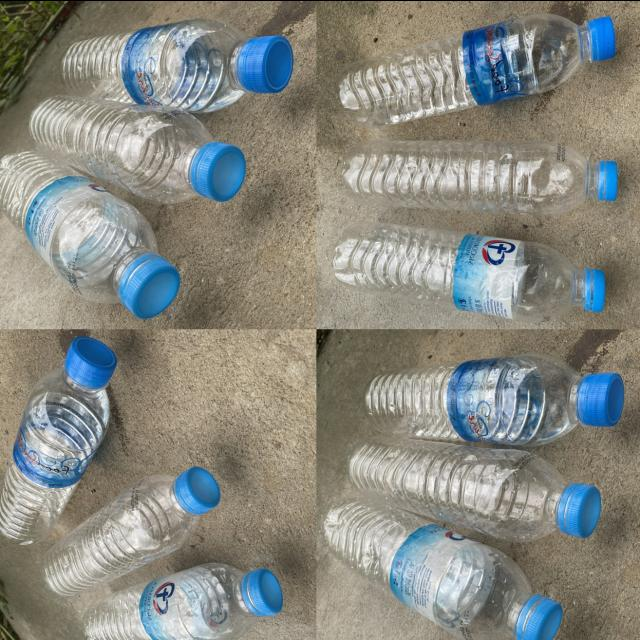plastik: (324, 499, 561, 640), (340, 12, 615, 125), (0, 150, 180, 318), (333, 222, 605, 321), (347, 436, 600, 540), (0, 336, 116, 543), (365, 353, 623, 445), (30, 95, 246, 202), (42, 466, 220, 595), (61, 17, 293, 111), (342, 139, 617, 215), (85, 562, 282, 640)
